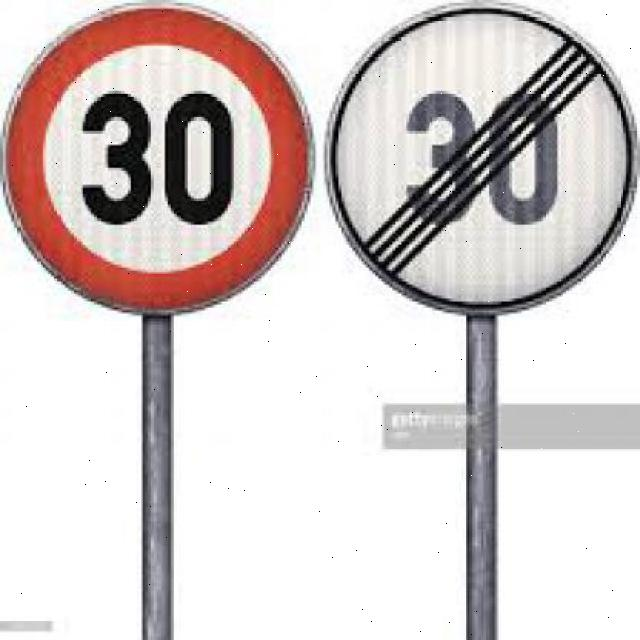speed limit 30: (1, 1, 316, 313)
